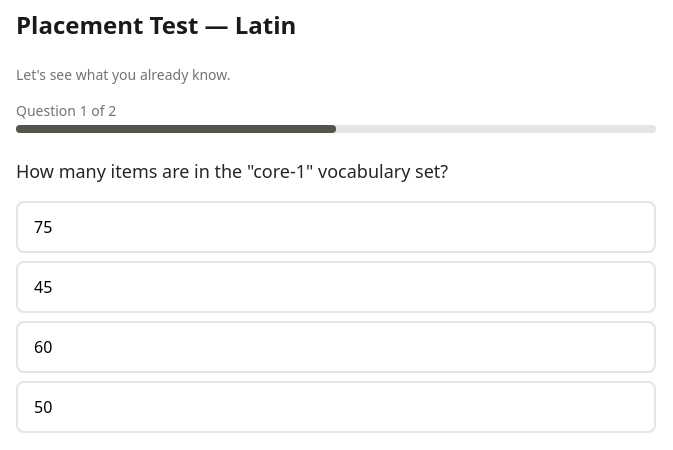
Scenario: PlacementTestPage › advances through probes and shows results
Expected: the text "Question 1 of 2" is shown, [16,101,116,121]
Click the button "75".
click(43, 227)  # box [16,201,656,253]
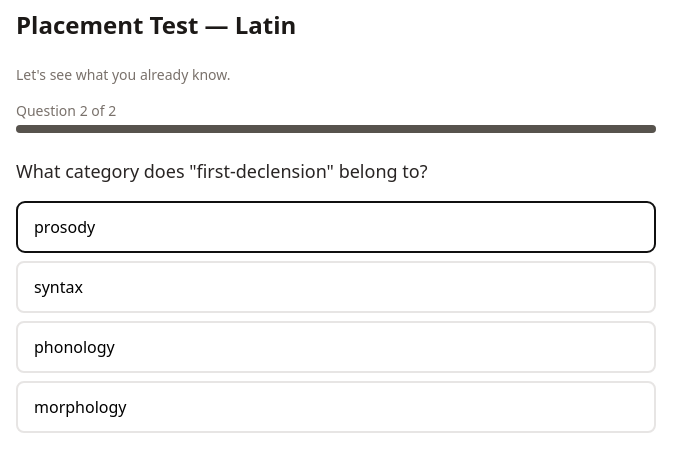
Note: Still probing — answer next
Click the button "prosody".
click(65, 227)  # box [16,201,656,253]
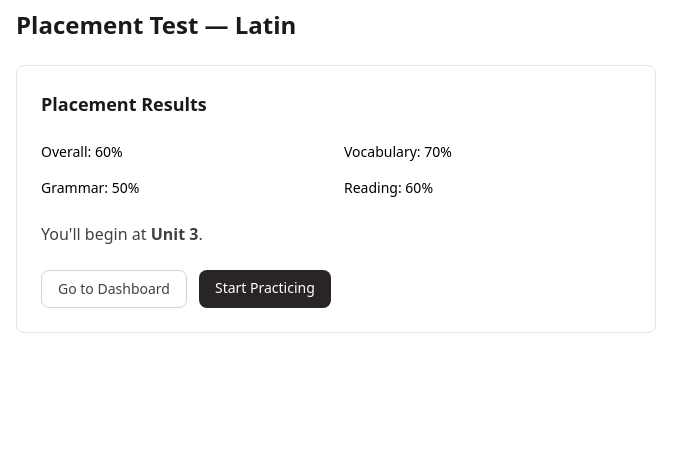
Expected: the heading "Placement Results" is shown, [41,92,207,116]
Expected: the text "Unit 3" is shown, [151,223,198,245]
